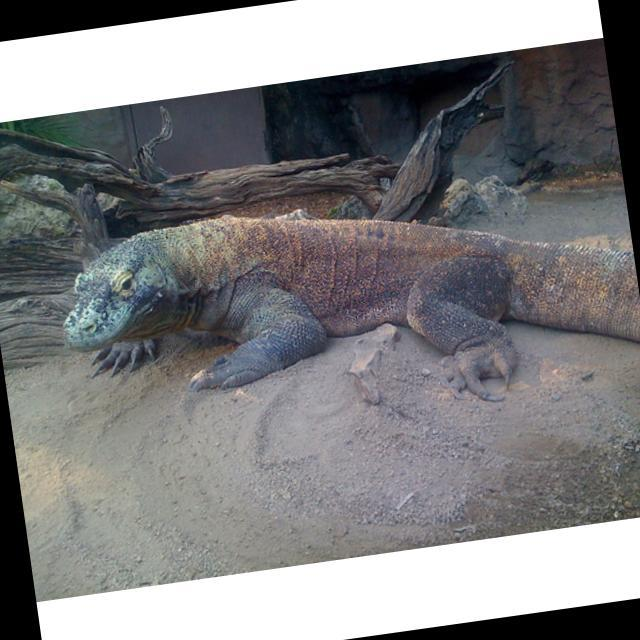KomodoDragon: (47, 159, 640, 461)
